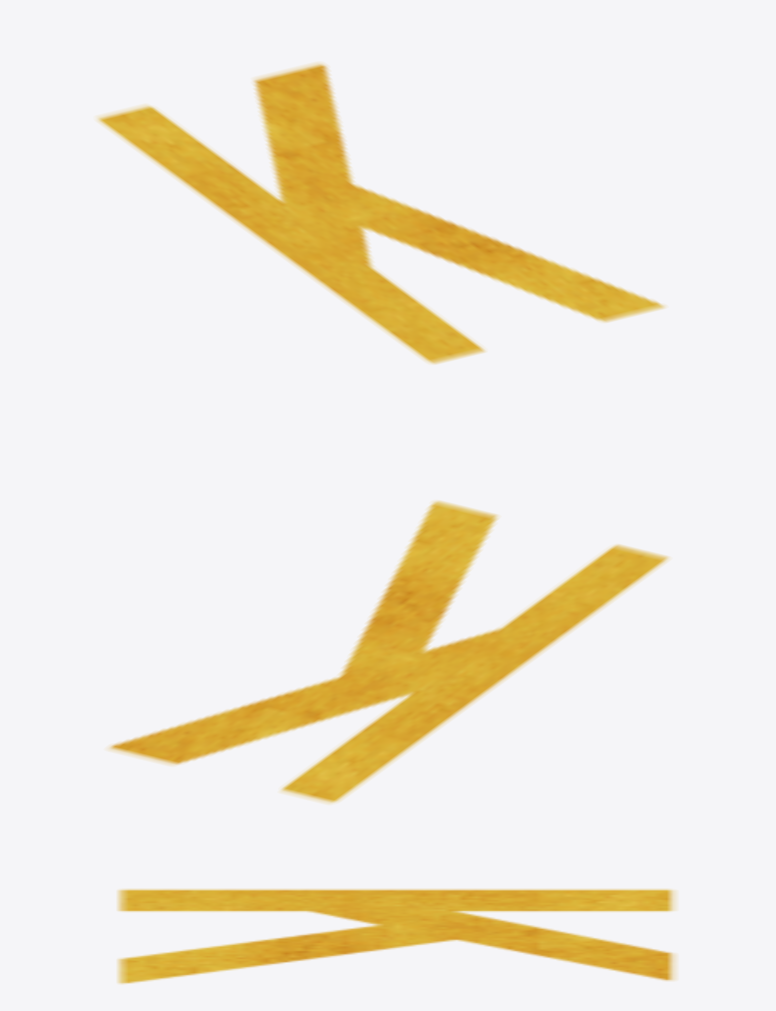
The picture shows the model from 3 angles, top to bottom: view 1: azimuth 30°, elevation 25°; view 2: azimuth 150°, elevation 25°; view 3: azimuth 270°, elevation 25°; orthographic projection. The views are drawn at different scales.
Visible parts, largest first — view 1: yK; view 2: yK; view 3: yK.
Boxes of the visible parts, <box> form: yK: <box>97,63,664,363</box>; yK: <box>108,501,668,803</box>; yK: <box>117,889,675,983</box>.
Size of the model in its own units: 1.5 by 1.8e-07 by 4.
